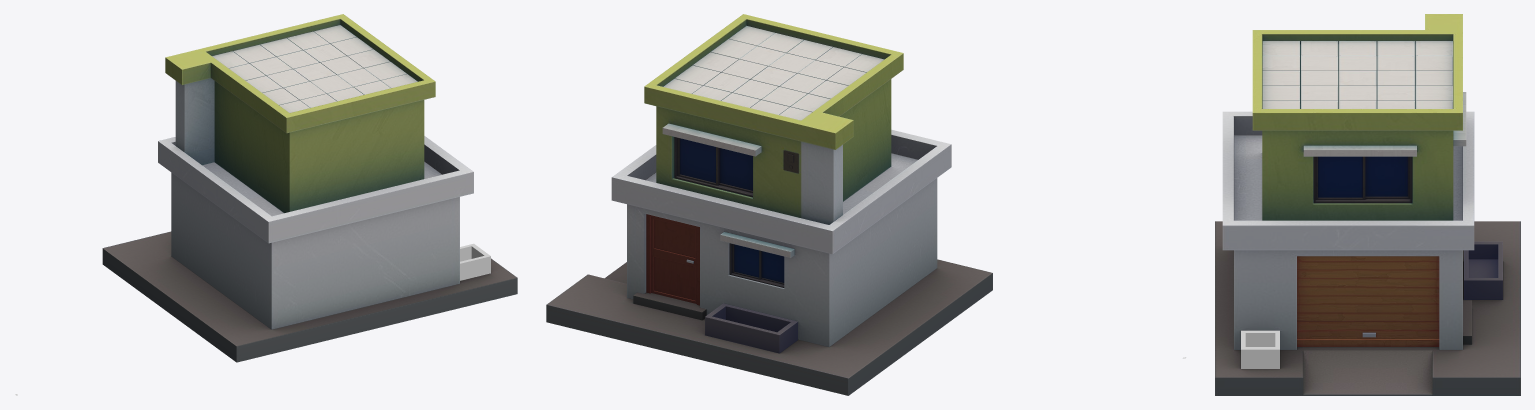
The model's file is casa-estrato-5.glb.
3 views of the same model, side by side, from view 1: azimuth 30°, elevation 25°; view 2: azimuth 150°, elevation 25°; view 3: azimuth 270°, elevation 25° (orthographic). The views are drawn at different scales.
Visible parts, largest first — view 1: marble 1, verde 1, Piso 1, baldosa, Matera 1; view 2: marble 1, verde 1, Piso 1, baldosa, Negro 1, Madera 1, Matera 1; view 3: marble 1, verde 1, Piso 1, baldosa, Garage 1, Negro 1, Matera 1.
Boxes of the visible parts, left/top/right/bottom form: marble 1: left=158, top=136, right=473, bottom=329; verde 1: left=165, top=14, right=435, bottom=212; Piso 1: left=102, top=231, right=517, bottom=362; baldosa: left=212, top=25, right=417, bottom=112; Matera 1: left=460, top=243, right=490, bottom=280; marble 1: left=611, top=129, right=951, bottom=346; verde 1: left=644, top=14, right=903, bottom=224; Piso 1: left=546, top=259, right=992, bottom=395; baldosa: left=662, top=25, right=884, bottom=257; Negro 1: left=674, top=137, right=798, bottom=287; Madera 1: left=646, top=214, right=699, bottom=305; Matera 1: left=705, top=303, right=797, bottom=353; marble 1: left=1222, top=111, right=1474, bottom=349; verde 1: left=1252, top=14, right=1462, bottom=220; Piso 1: left=1215, top=221, right=1520, bottom=395; baldosa: left=1262, top=41, right=1466, bottom=156; Garage 1: left=1297, top=256, right=1439, bottom=346; Negro 1: left=1313, top=156, right=1412, bottom=203; Matera 1: left=1241, top=241, right=1502, bottom=368.
Size of the model in its own units: 10.93 by 4.69 by 5.27.
Materials: 10 (10 with a texture image).
